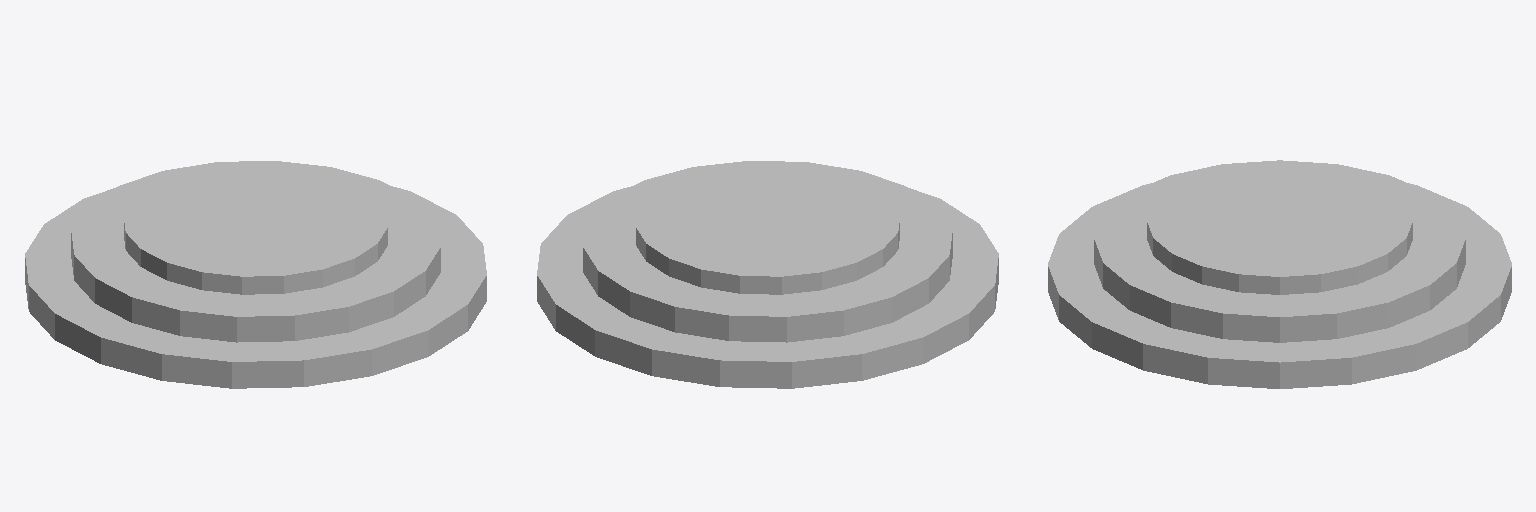
Rendered from RobotPed.obj.
The picture shows the model from 3 angles: view 1: azimuth 30°, elevation 25°; view 2: azimuth 150°, elevation 25°; view 3: azimuth 270°, elevation 25°; orthographic projection.
Parts seen in each view (by area): view 1: Pedestal; view 2: Pedestal; view 3: Pedestal.
Part boxes in pixels (bbox=[...]): Pedestal: bbox=[25, 161, 486, 388]; Pedestal: bbox=[537, 161, 998, 388]; Pedestal: bbox=[1048, 160, 1511, 388].
Bounding box in the file's own units: 18.37 × 3.07 × 18.37.